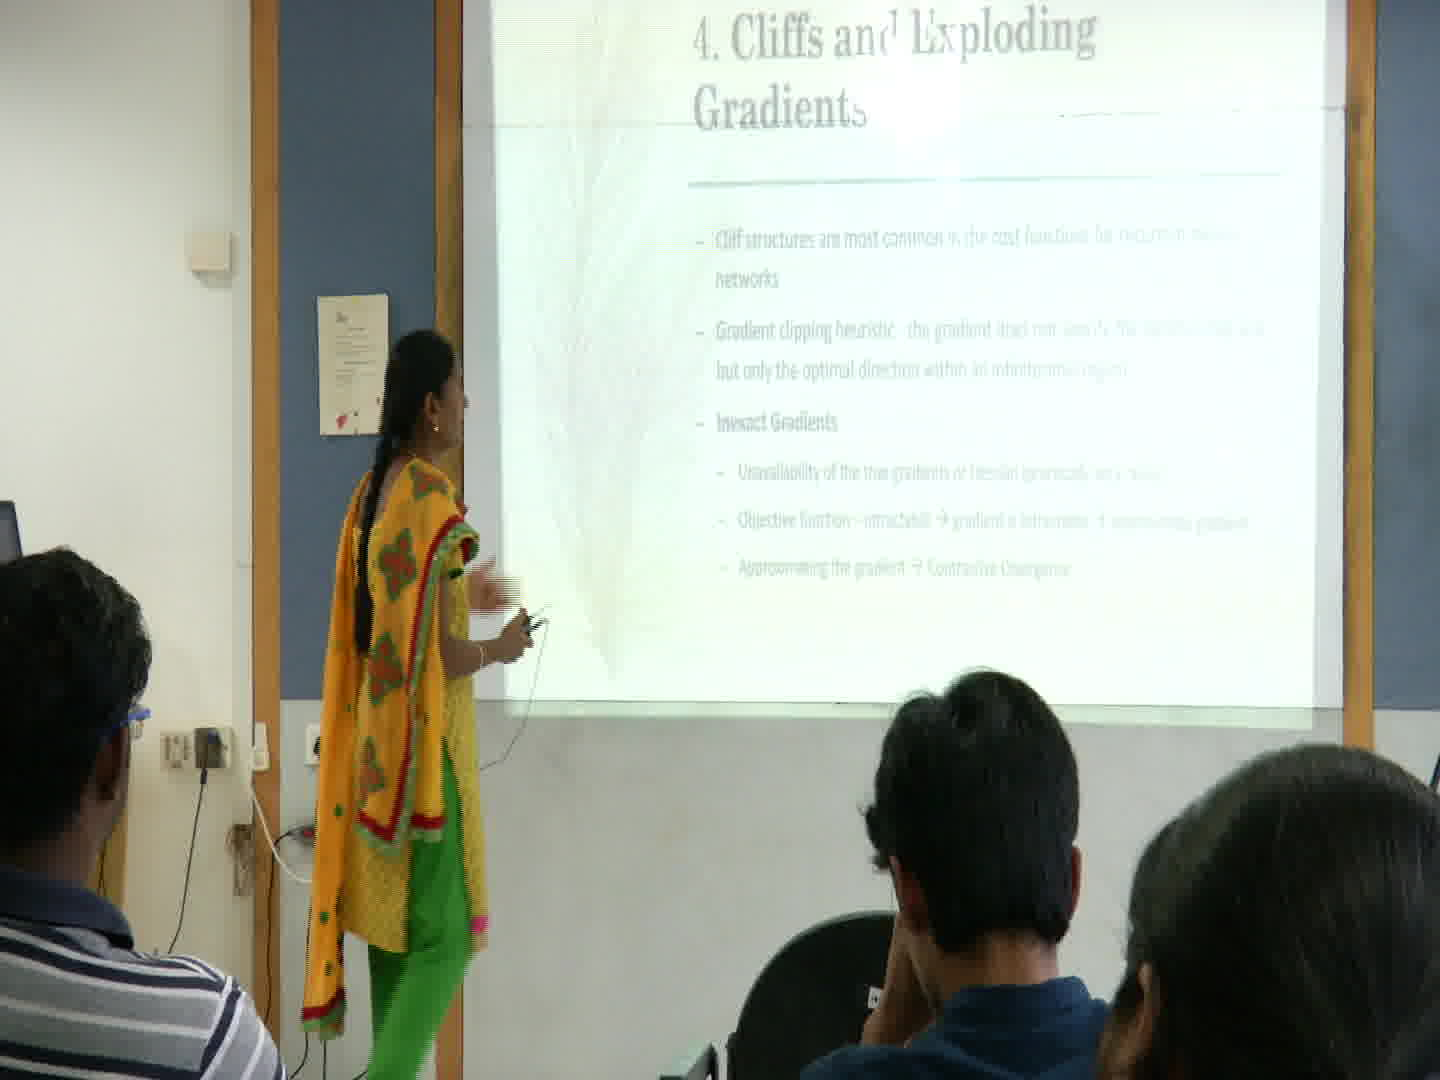slide: (490, 2, 1314, 729)
